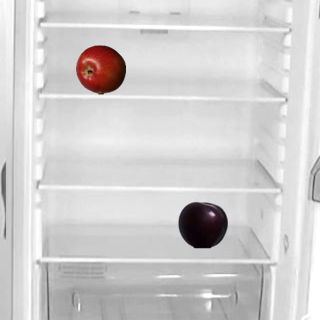Apple Braeburn: (75, 44, 125, 94)
Cherry Wax Black: (177, 199, 227, 249)
